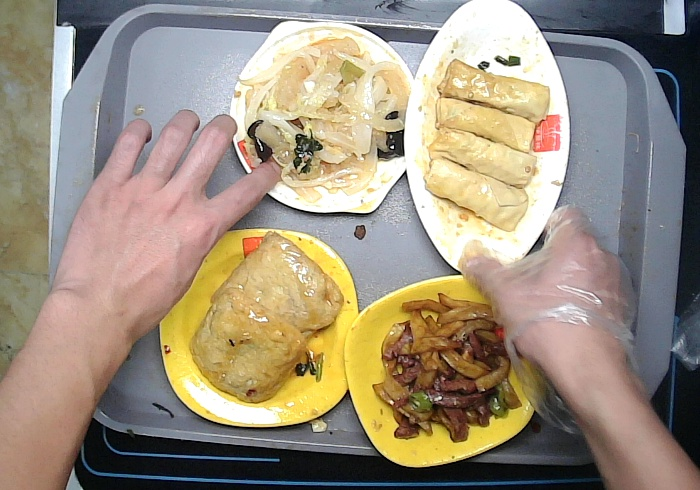SHKJ-Bao_Yu_Pan: (227, 14, 421, 223)
SHKJ-Huang_Se_Cai_Die: (343, 268, 555, 473)
SHKJ-Huang_Se_Si_Fang_Cai_Die: (147, 222, 364, 435)
SHKJ-Yu_Pan: (398, 1, 578, 286)
